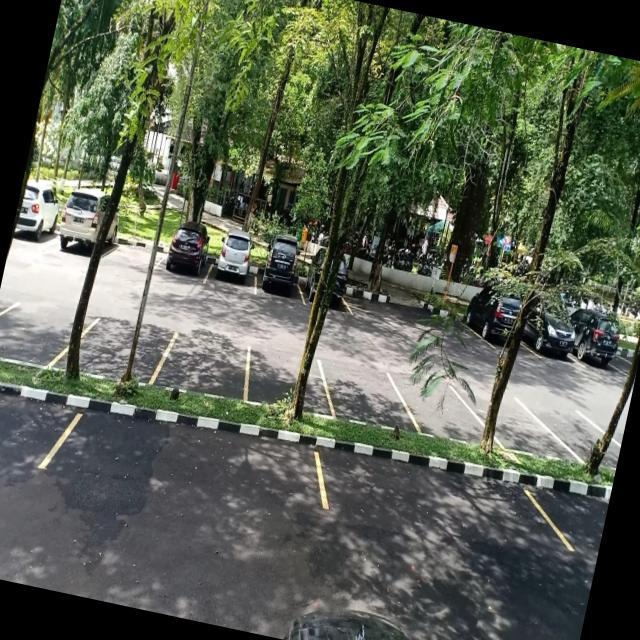empty: (40, 384, 338, 531), (308, 430, 574, 564), (74, 308, 175, 390), (153, 324, 254, 402), (0, 294, 92, 376), (314, 358, 409, 436), (237, 342, 331, 417), (396, 376, 487, 448), (487, 392, 569, 464), (102, 222, 166, 275)
occupied: (54, 186, 124, 264), (460, 278, 522, 352), (202, 227, 268, 296), (252, 233, 313, 305), (154, 219, 218, 286)
